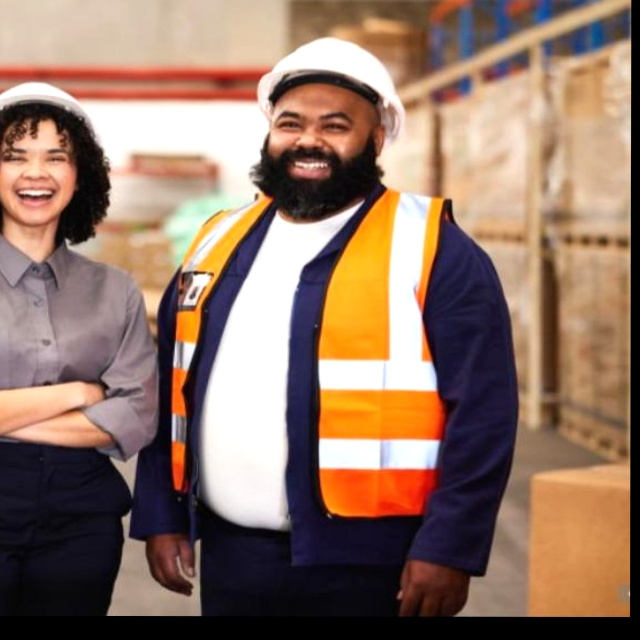Con_Casco: (252, 40, 404, 189), (0, 80, 108, 234)
Con_Chaleco: (168, 191, 475, 524)
Sin_Chaleco: (0, 237, 148, 470)
